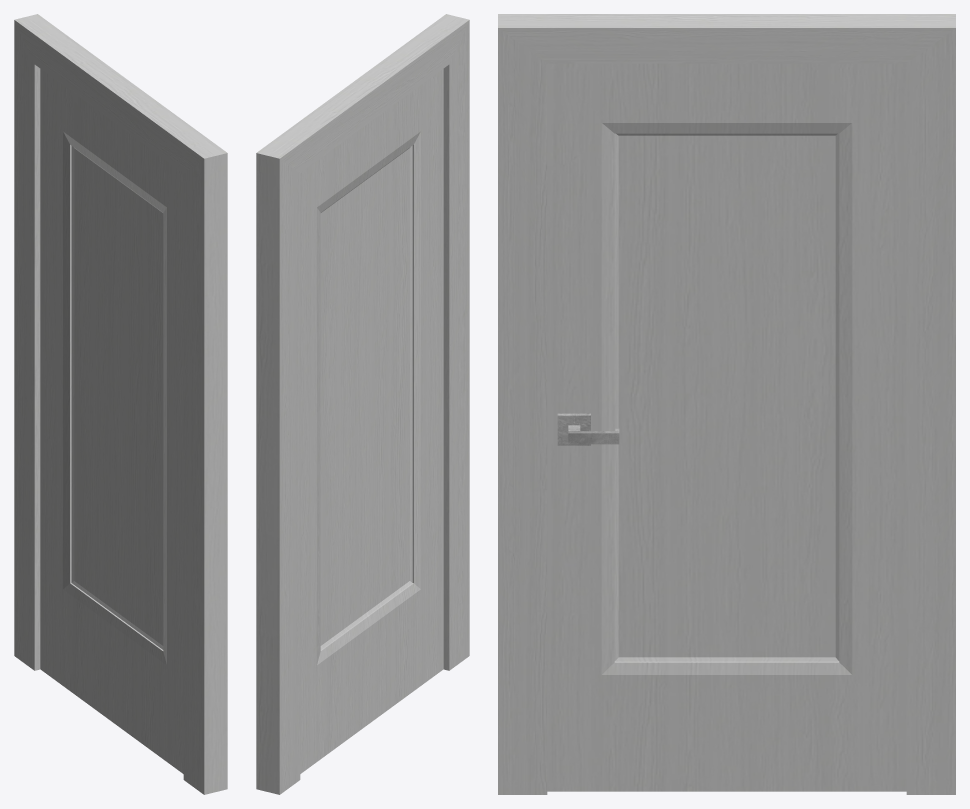
The model's file is door.fbx.
The picture shows the model from 3 angles, left to right: view 1: azimuth 30°, elevation 25°; view 2: azimuth 150°, elevation 25°; view 3: azimuth 270°, elevation 25°; orthographic projection. The views are drawn at different scales.
Parts seen in each view (by area): view 1: DOOR; view 2: DOOR; view 3: DOOR.
Boxes of the visible parts, box(x1,y1,x2,y2) form: DOOR: box(14, 14, 227, 794); DOOR: box(256, 14, 469, 794); DOOR: box(498, 14, 955, 794).
Size of the model in its own units: 49.08 by 849 by 459.
